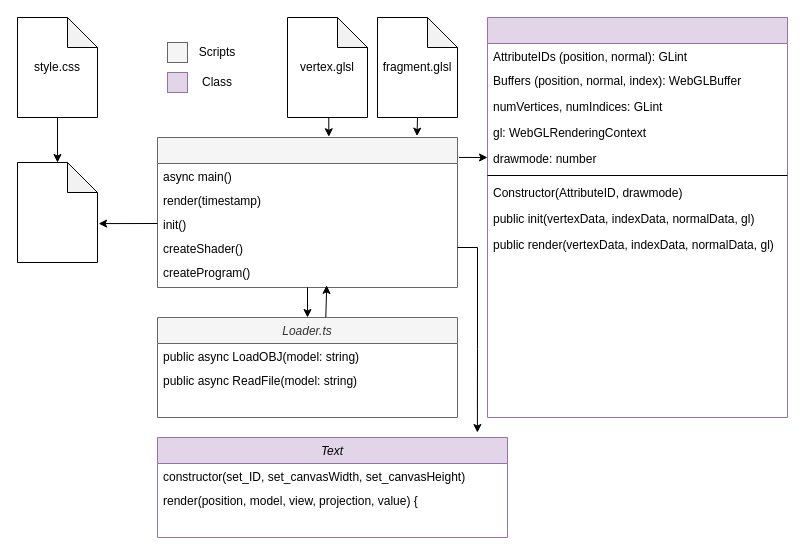
Image size: 805x555. Some labels were removed from this diagram. Here are the shapes that lost their labels. From the top down, the box of each, then its label:
(16, 162, 98, 262): index.html
(156, 136, 458, 288): index.ts
(486, 16, 788, 418): Model
